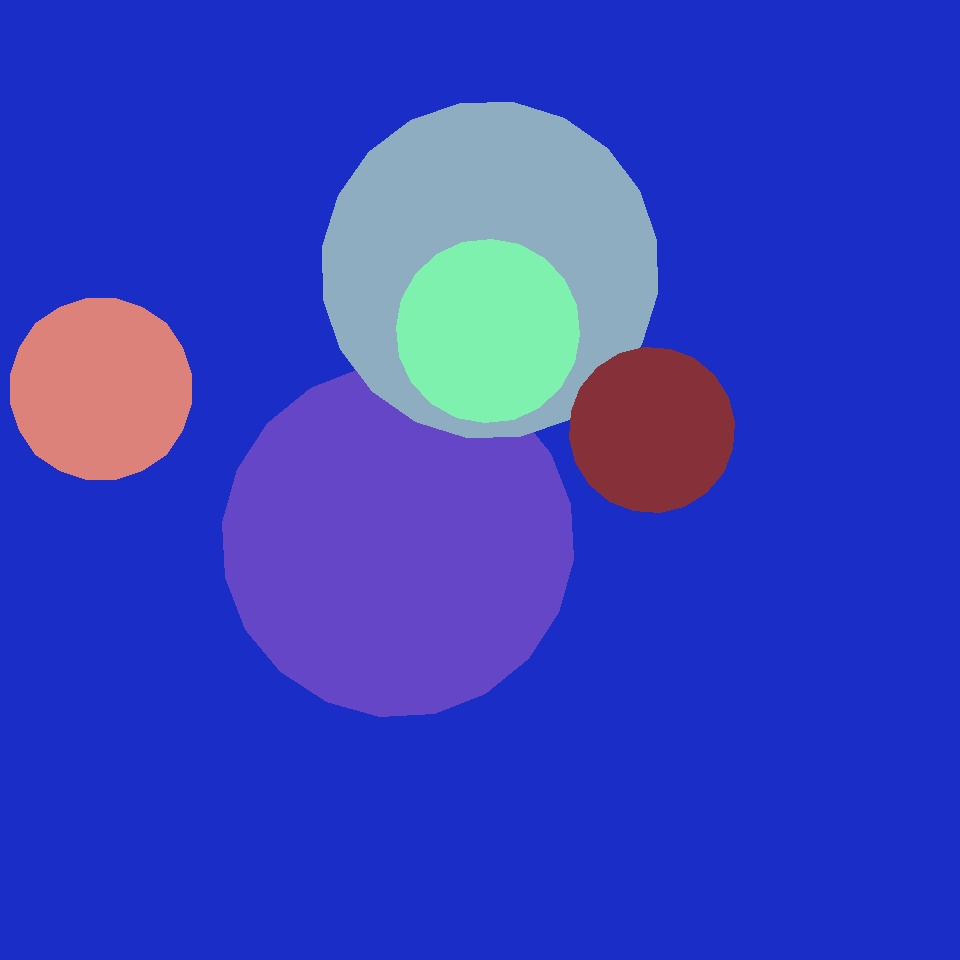square: (562, 564, 871, 873), (502, 93, 661, 252)
triangle: (223, 366, 574, 716), (322, 103, 657, 437), (462, 191, 767, 496), (251, 443, 479, 671), (364, 87, 569, 293), (396, 240, 580, 422), (11, 298, 192, 480), (570, 348, 734, 513)
